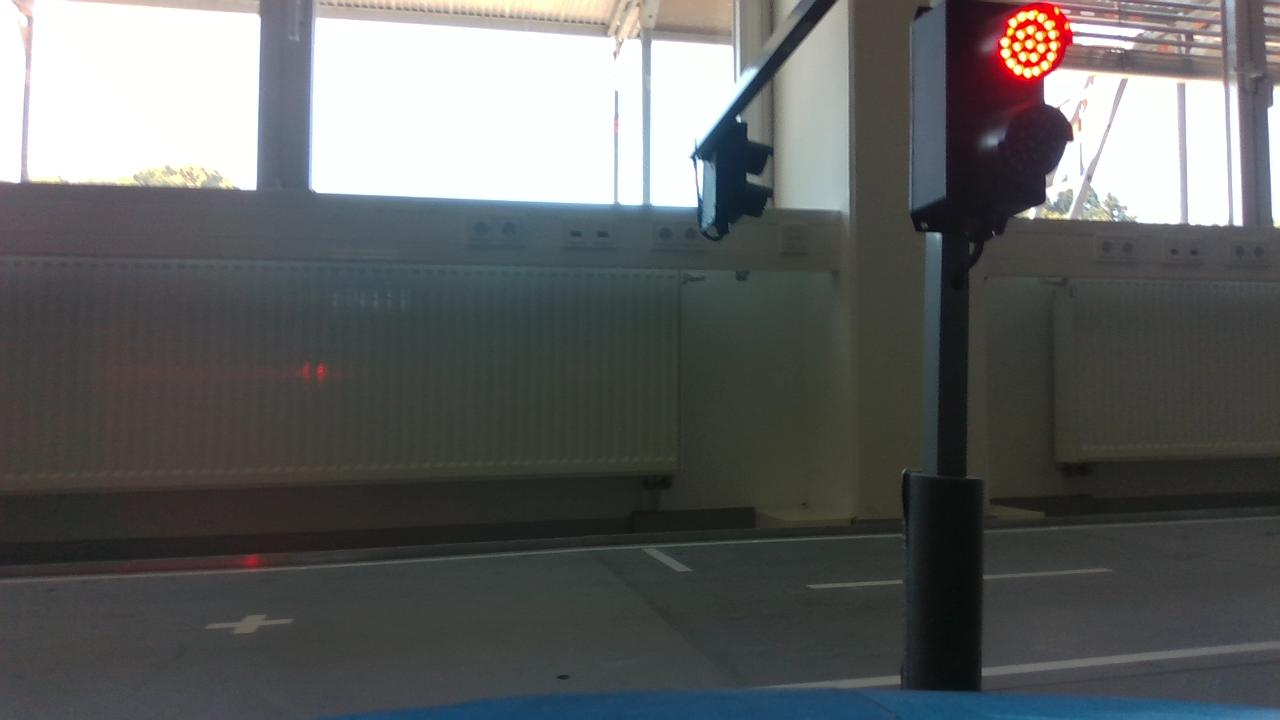traffic_light_red: (898, 1, 1097, 291)
